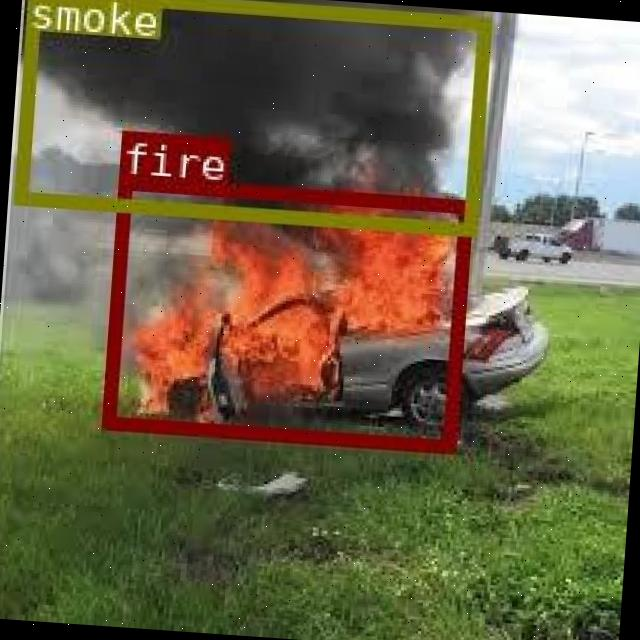fire: (98, 176, 469, 450)
smoke: (13, 0, 487, 233)
